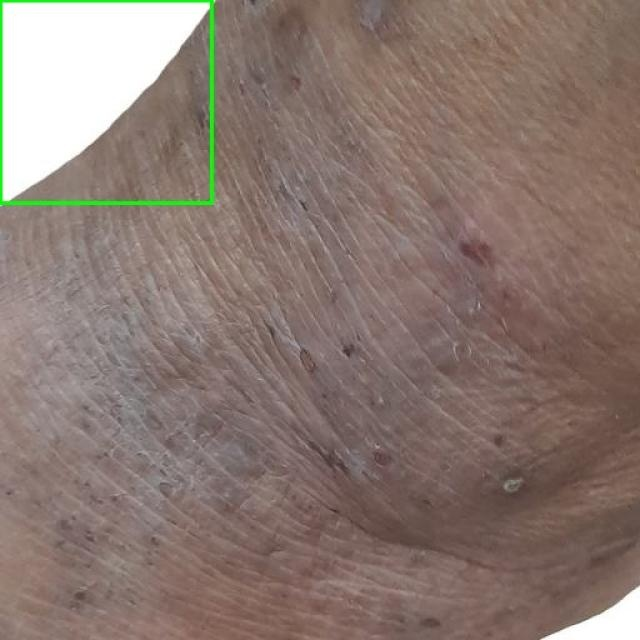Contact Dermatitis: (0, 0, 211, 202)
